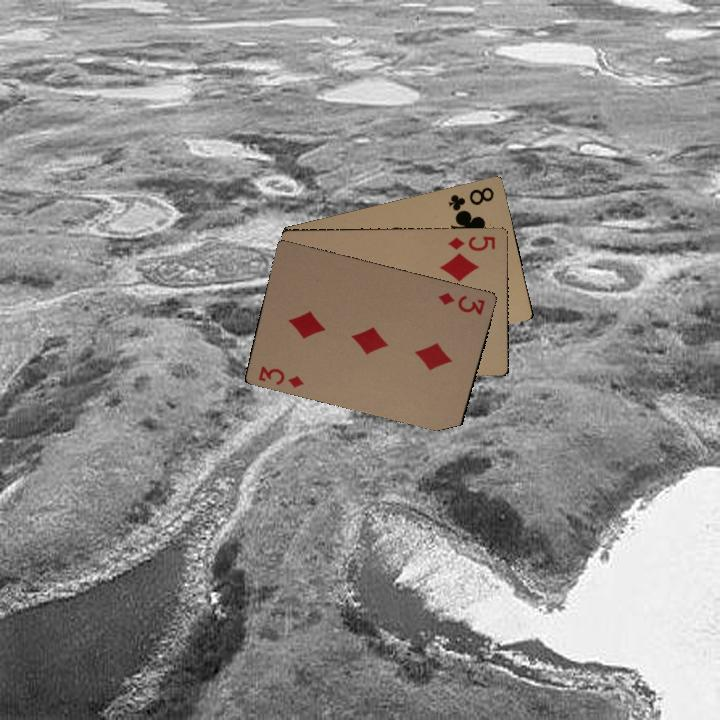3d: (434, 288, 488, 317), (254, 362, 306, 390)
5d: (445, 232, 497, 254)
8c: (444, 183, 496, 215)
